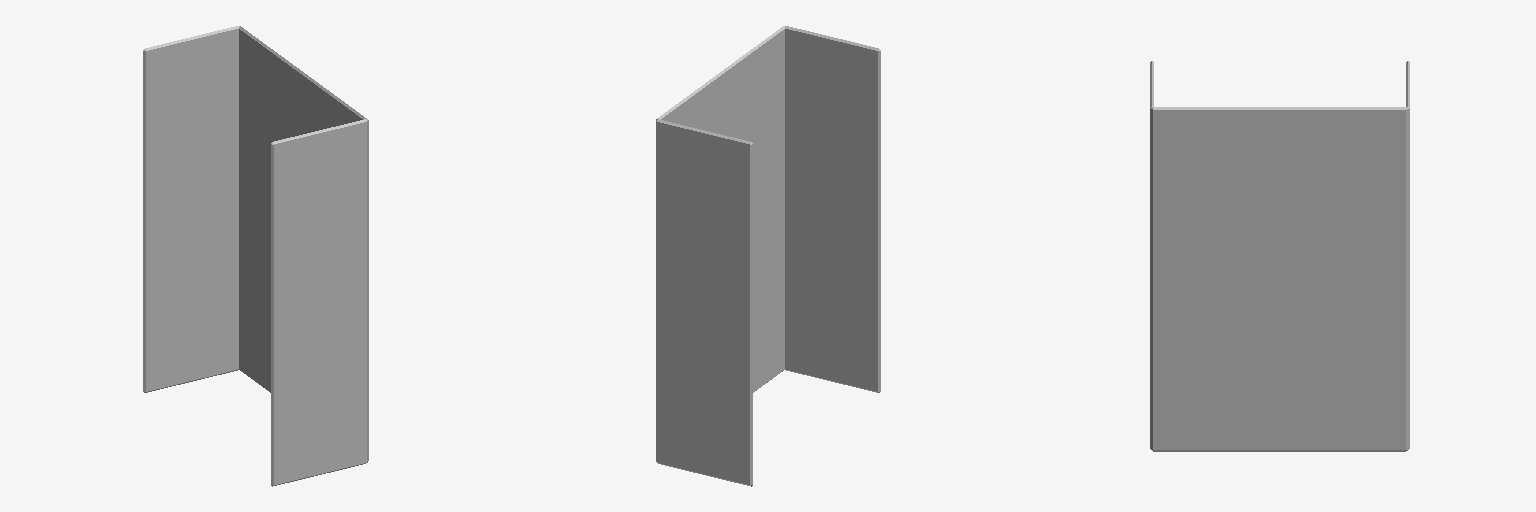
Rendered from cubo interno.obj.
3 views of the same model, side by side, from view 1: azimuth 30°, elevation 25°; view 2: azimuth 150°, elevation 25°; view 3: azimuth 270°, elevation 25° (orthographic).
Parts seen in each view (by area): view 1: cafeteria:pCube54; view 2: cafeteria:pCube54; view 3: cafeteria:pCube54.
Part boxes in pixels (x1,y1,x2,y2): cafeteria:pCube54: (143, 26, 368, 486); cafeteria:pCube54: (656, 26, 880, 486); cafeteria:pCube54: (1150, 61, 1409, 451).
Size of the model in its own units: 26.37 by 88.22 by 60.2.